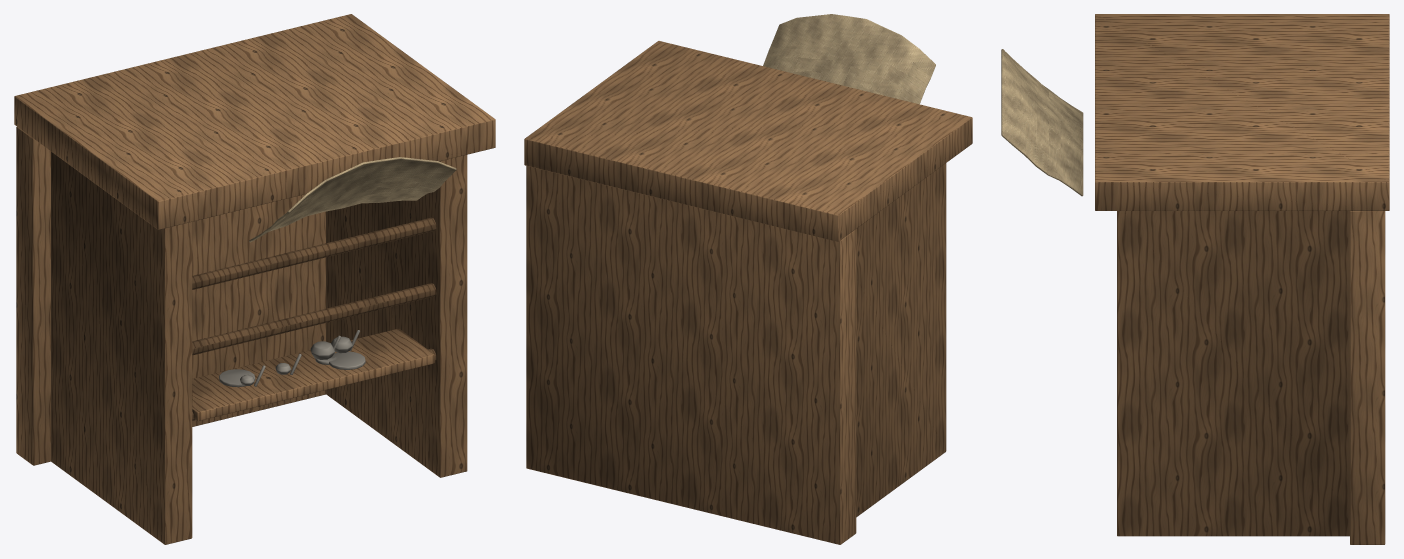
File: booth_metal.glb
3 views of the same model, side by side, from view 1: azimuth 30°, elevation 25°; view 2: azimuth 150°, elevation 25°; view 3: azimuth 270°, elevation 25° (orthographic). The views are drawn at different scales.
Visible parts, largest first — view 1: booth_metal; view 2: booth_metal; view 3: booth_metal.
Part boxes in pixels (box(x1,y1,x2,y2)): booth_metal: box(14, 14, 495, 544); booth_metal: box(524, 14, 972, 544); booth_metal: box(1001, 14, 1389, 544).
Size of the model in its own units: 2.7 by 2.97 by 2.63.
Materials: 3 (2 with a texture image).
